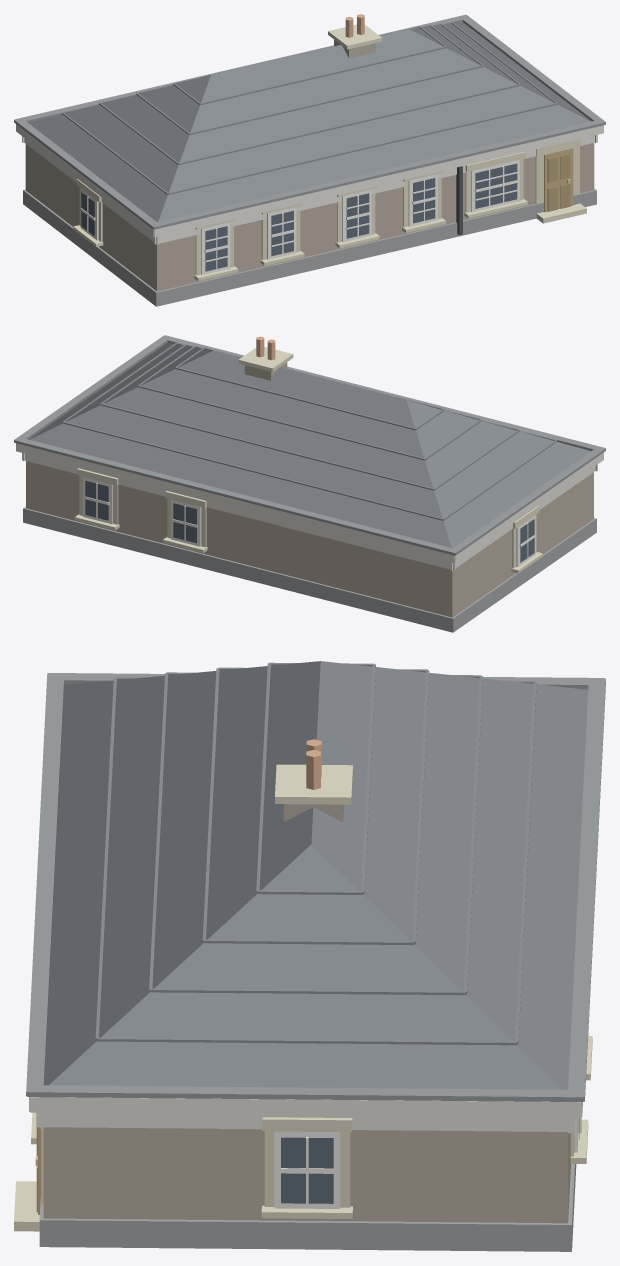
3 renders of one model, top to bottom at view 1: azimuth 30°, elevation 25°; view 2: azimuth 150°, elevation 25°; view 3: azimuth 270°, elevation 25°, orthographic. The views are drawn at different scales.
Visible parts, largest first — view 1: slate, harl_brown, plinth, dress_buff, lead, string, slate_lt, frame, window_glass_005, door_wood_p, door_wood, window_glass_003 (+5 smaller); view 2: slate, harl_brown, plinth, string, lead, slate_lt, dress_buff, frame, window_glass_007, window_glass_006, window_glass_008; view 3: slate, harl_brown, lead, plinth, string, slate_lt, dress_buff, window_glass_009, frame, pot.
Boxes of the visible parts, box(x1,y1,x2,y2) form: slate: box(28, 22, 591, 221); harl_brown: box(25, 143, 594, 291); plinth: box(23, 189, 596, 306); dress_buff: box(73, 24, 586, 281); lead: box(14, 14, 605, 229); string: box(16, 124, 603, 244); slate_lt: box(62, 22, 557, 194); frame: box(80, 160, 519, 274); window_glass_005: box(475, 163, 517, 208); door_wood_p: box(547, 154, 570, 211); door_wood: box(544, 148, 573, 211); window_glass_003: box(346, 193, 369, 238); slate: box(29, 342, 590, 547); harl_brown: box(26, 461, 593, 617); plinth: box(23, 507, 596, 632); string: box(16, 443, 603, 570); lead: box(14, 335, 605, 555); slate_lt: box(62, 342, 557, 520); dress_buff: box(74, 346, 542, 573); frame: box(83, 477, 535, 566); window_glass_007: box(173, 503, 196, 543); window_glass_006: box(85, 480, 108, 520); window_glass_008: box(520, 519, 534, 562); slate: box(44, 661, 588, 1089); harl_brown: box(43, 1127, 570, 1223); lead: box(26, 673, 605, 1101); plinth: box(39, 1164, 576, 1251); string: box(29, 1097, 582, 1133); slate_lt: box(95, 662, 536, 1045); dress_buff: box(14, 764, 592, 1231); window_glass_009: box(281, 1137, 333, 1203); frame: box(274, 1117, 581, 1208); pot: box(306, 739, 321, 789).
Bounding box in the file's own units: 15.22 × 5.67 × 8.97.
